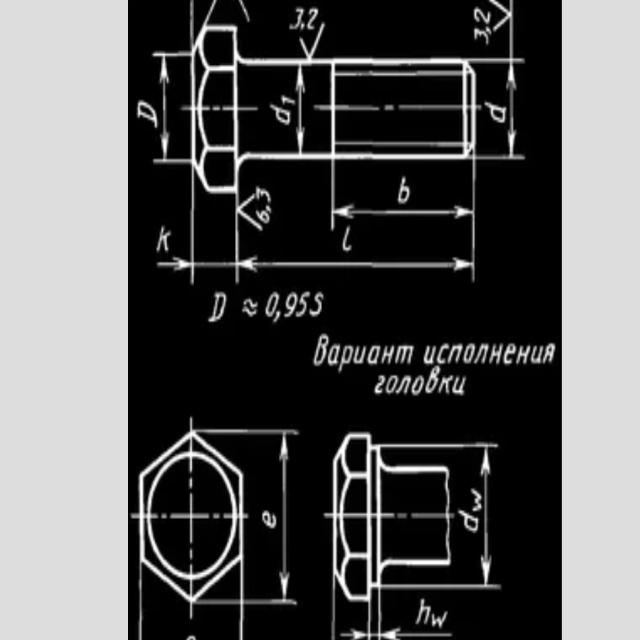marking_line: (157, 193, 480, 282), (234, 194, 479, 285), (330, 162, 479, 233), (246, 428, 302, 614), (452, 440, 500, 590), (478, 58, 526, 163), (156, 175, 196, 289), (151, 49, 189, 164), (378, 590, 455, 640), (294, 66, 307, 151), (342, 605, 372, 640), (298, 25, 326, 57), (489, 0, 510, 33)
numeric: (484, 100, 506, 124), (395, 172, 411, 204), (459, 508, 480, 532), (298, 290, 312, 321), (340, 224, 354, 253), (415, 596, 430, 623), (283, 291, 297, 319), (262, 507, 278, 531), (311, 291, 324, 319), (471, 486, 484, 514), (472, 8, 491, 25), (290, 7, 304, 30), (267, 291, 278, 318), (473, 27, 490, 44), (429, 611, 448, 626), (255, 208, 270, 223), (280, 95, 296, 107), (309, 9, 319, 28)
special_symbol: (239, 192, 257, 224), (242, 297, 259, 316)
